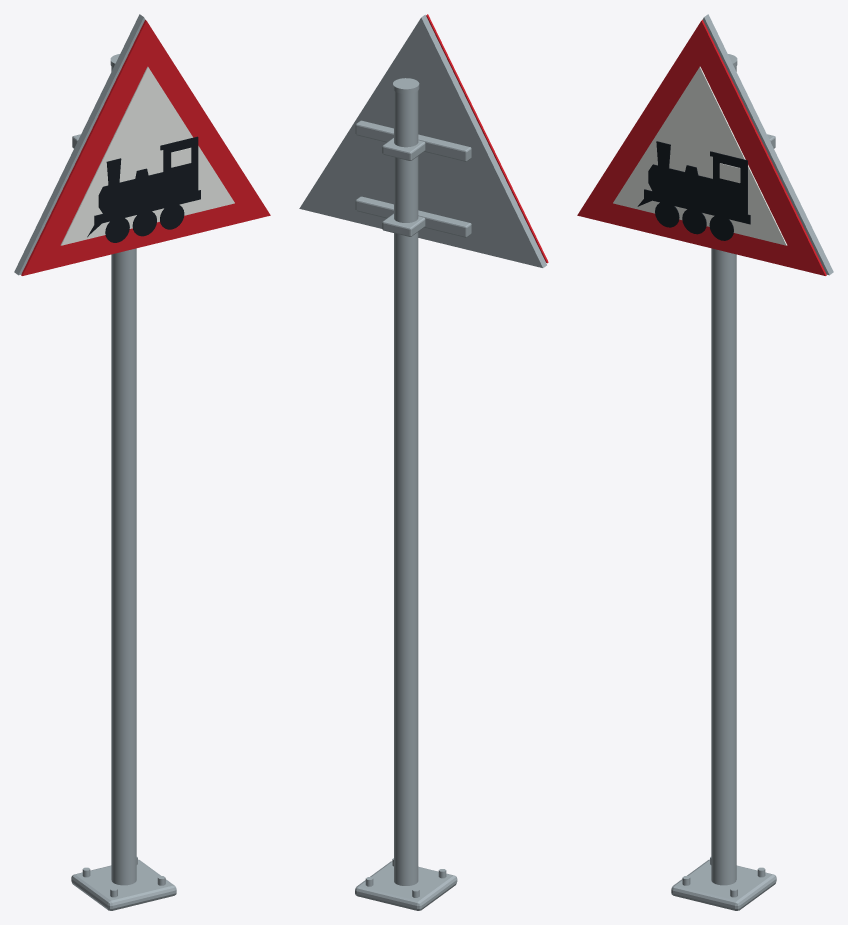
File: DS_Sign_RailwayNoBarrier.fbx
3 views of the same model, side by side, from view 1: azimuth 30°, elevation 25°; view 2: azimuth 150°, elevation 25°; view 3: azimuth 330°, elevation 25° (orthographic). The views are drawn at different scales.
Parts seen in each view (by area): view 1: Post.001, Face_Border.001, Face_Field.001, BasePlate.001, Plate_Back.001, Loco_Boiler, Loco_Cab, Loco_Frame; view 2: Plate_Back.001, Post.001, BasePlate.001, RearRail.002, RearRail.003, Face_Border.001, PostClamp.002, PostClamp.003; view 3: Post.001, Face_Border.001, Face_Field.001, BasePlate.001, Plate_Back.001, Loco_Boiler, Loco_Cab, Loco_Frame.
Boxes of the visible parts, x1,y1,x2,y2 form: Post.001: (111, 66, 136, 885); Face_Border.001: (21, 20, 270, 275); Face_Field.001: (60, 66, 234, 245); BasePlate.001: (71, 859, 176, 910); Plate_Back.001: (14, 14, 145, 275); Loco_Boiler: (98, 171, 166, 213); Loco_Cab: (160, 136, 198, 198); Loco_Frame: (94, 190, 200, 224); Plate_Back.001: (299, 14, 546, 267); Post.001: (394, 91, 418, 885); BasePlate.001: (355, 861, 457, 910); RearRail.002: (355, 196, 471, 237); RearRail.003: (355, 120, 471, 161); Face_Border.001: (426, 14, 548, 263); PostClamp.002: (382, 213, 425, 236); PostClamp.003: (382, 138, 425, 160); Post.001: (711, 66, 736, 885); Face_Border.001: (577, 20, 826, 275); Face_Field.001: (613, 66, 787, 245); BasePlate.001: (671, 859, 776, 910); Plate_Back.001: (702, 14, 833, 275); Loco_Boiler: (648, 164, 715, 206); Loco_Cab: (710, 151, 747, 214); Loco_Frame: (644, 189, 750, 224).
Bounding box in the file's own units: 87.47 × 295 × 27.5.
